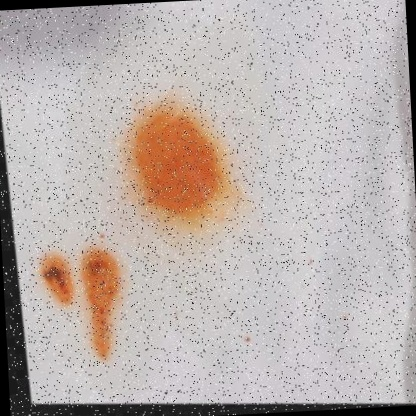kimchi: (123, 99, 239, 223), (76, 243, 127, 364), (38, 249, 70, 300), (237, 332, 252, 350), (96, 225, 108, 241)
